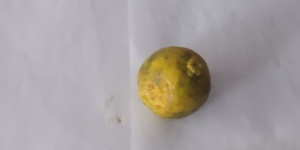BAD: (137, 41, 216, 124)
